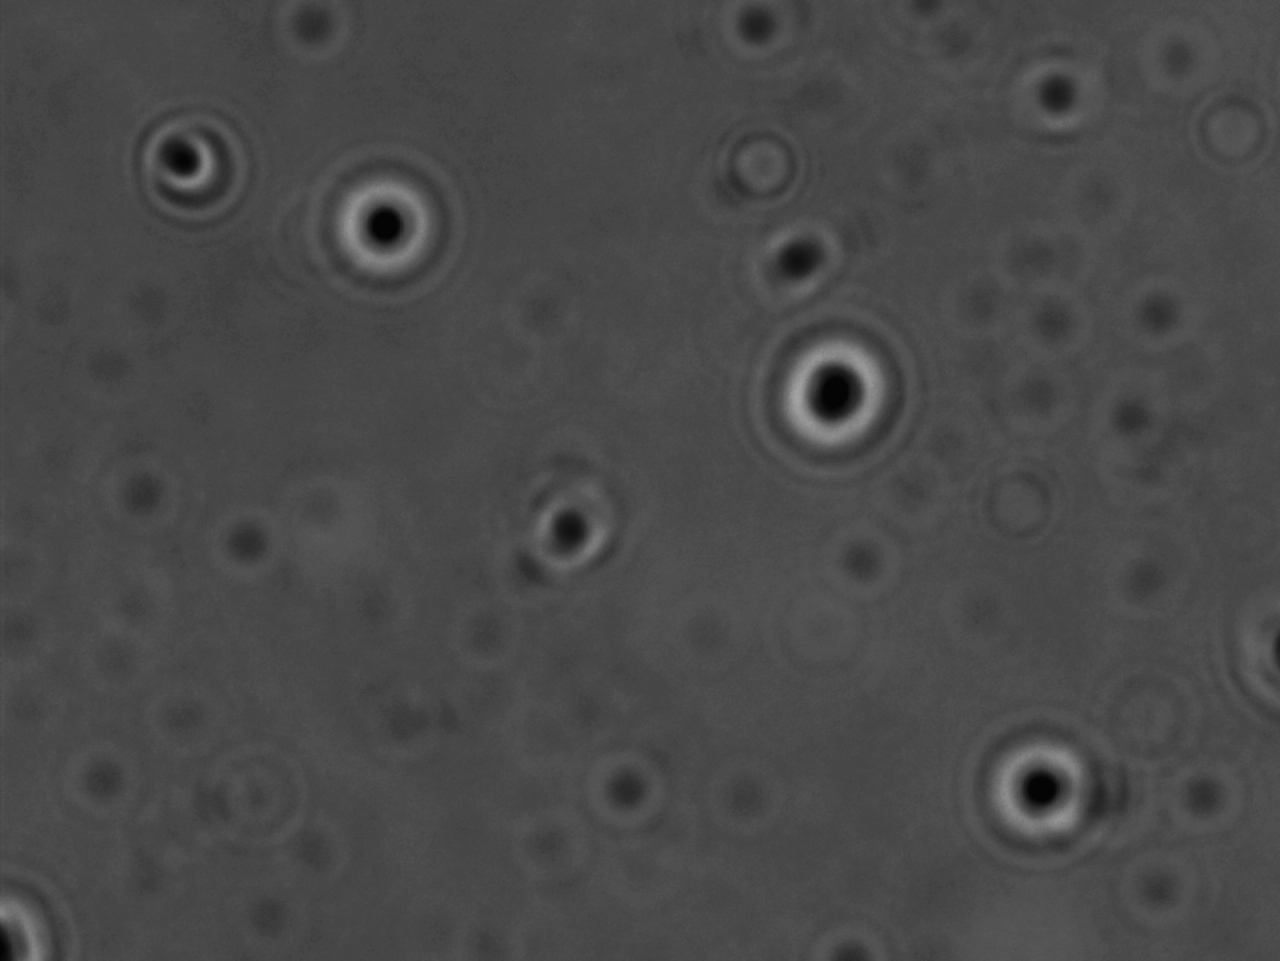depth:-24: (302, 145, 455, 307), (753, 323, 905, 478), (960, 717, 1107, 867)
